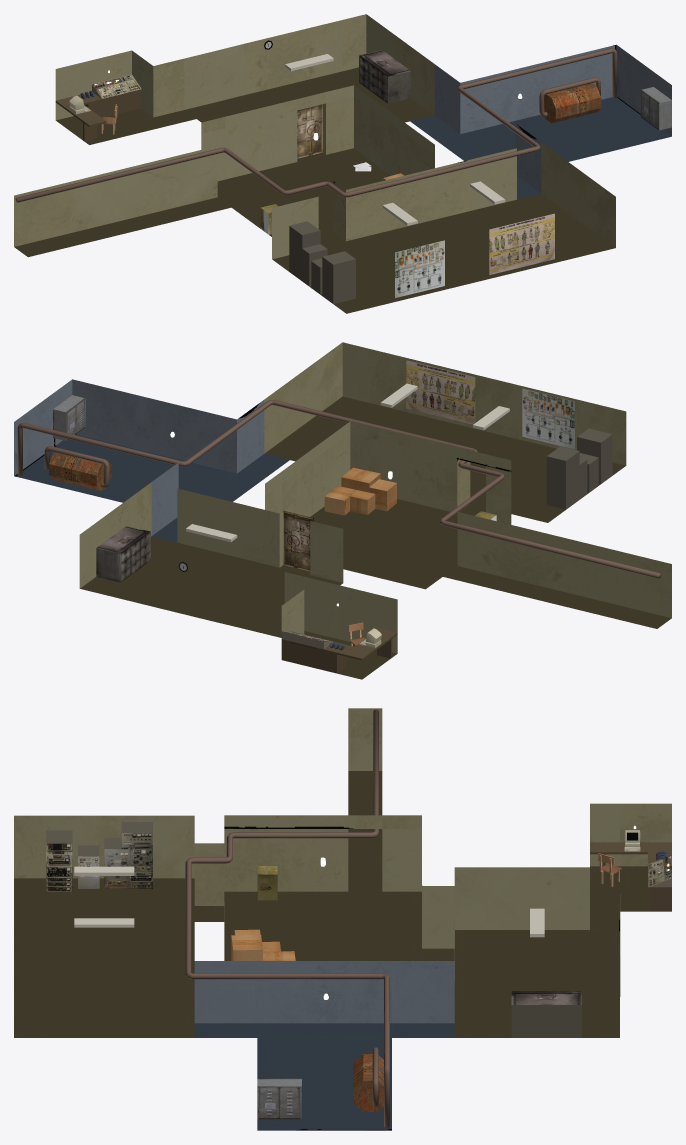
The picture shows the model from 3 angles, top to bottom: view 1: azimuth 30°, elevation 25°; view 2: azimuth 150°, elevation 25°; view 3: azimuth 270°, elevation 25°; orthographic projection. The views are drawn at different scales.
Visible parts, largest first — view 1: Rooms, Pipe1, Devices, Poster1, Poster1.001, Cube, Desk, Boiler, DoorBack, ElectricalPanel, Panel; view 2: Rooms, Pipe1, Devices, Poster1, Poster1.001, Boxes, Cube, Desk, Boiler, DoorFront, ElectricalPanel, Panel; view 3: Rooms, Pipe1, Devices, Cube, ElectricalPanel, Desk, Boxes, Boiler, Safe, Panel.
Part boxes in pixels (box(x1,y1,x2,y2)): Rooms: box(14, 14, 671, 313); Pipe1: box(15, 48, 617, 202); Devices: box(289, 221, 355, 303); Poster1: box(489, 213, 554, 274); Poster1.001: box(395, 240, 444, 297); Cube: box(359, 50, 410, 103); Desk: box(55, 89, 141, 141); Boiler: box(544, 83, 601, 123); DoorBack: box(297, 104, 322, 158); ElectricalPanel: box(640, 87, 671, 130); Panel: box(92, 74, 141, 98); Rooms: box(14, 342, 671, 679); Pipe1: box(17, 400, 660, 578); Devices: box(546, 428, 612, 509); Poster1: box(406, 360, 475, 424); Poster1.001: box(522, 388, 574, 449); Boxes: box(324, 467, 396, 515); Cube: box(96, 526, 150, 582); Desk: box(281, 628, 397, 673); Boiler: box(49, 452, 111, 491); DoorFront: box(283, 510, 313, 571); ElectricalPanel: box(53, 395, 85, 440); Panel: box(281, 631, 333, 649); Rooms: box(14, 708, 671, 1130); Pipe1: box(185, 709, 389, 1127); Devices: box(46, 822, 152, 891); Cube: box(511, 991, 581, 1037); ElectricalPanel: box(257, 1078, 301, 1119); Desk: box(590, 842, 671, 911); Boxes: box(231, 929, 295, 960); Boiler: box(353, 1054, 383, 1111); Safe: box(257, 866, 277, 900); Panel: box(648, 854, 671, 887).
Bounding box in the file's own units: 27.77 × 2.78 × 21.47.
23 materials, 15 textured.
